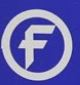Fisher: (18, 24, 57, 70)
